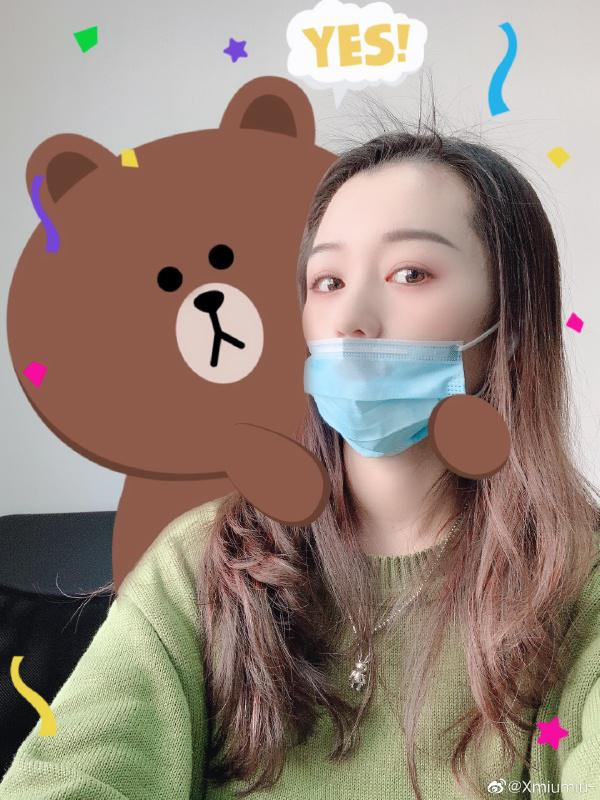WRONG: (304, 211, 476, 451)
